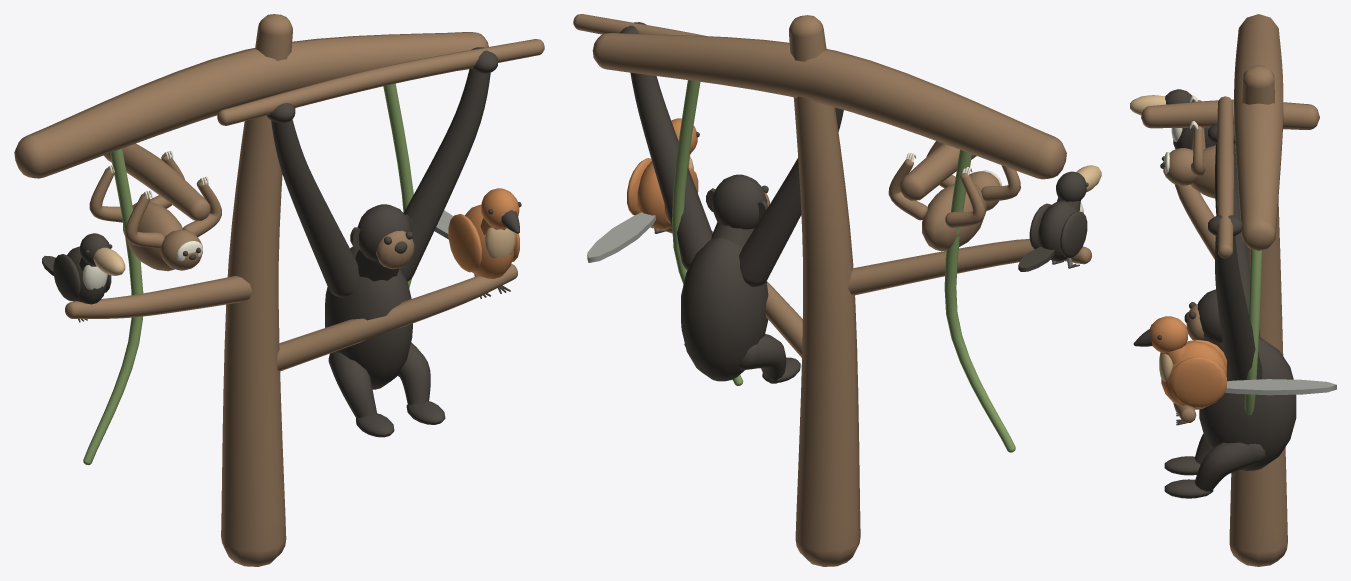
The model's file is rainforest-and-jungle-fauna-canopy-branc-eae5df9f-starter-scene__21700.glb.
3 views of the same model, side by side, from view 1: azimuth 30°, elevation 25°; view 2: azimuth 150°, elevation 25°; view 3: azimuth 270°, elevation 25° (orthographic). The views are drawn at different scales.
Parts seen in each view (by area): view 1: 000-liana-hung-branch-perch/0, 002-gibbon-brachiating/0, 001-three-toed-sloth-on-branch/0, 002-gibbon-brachiating/1, 000-liana-hung-branch-perch/1, 004-scarlet-macaw/0, 003-toco-toucan/0, 004-scarlet-macaw/2, 003-toco-toucan/2; view 2: 000-liana-hung-branch-perch/0, 002-gibbon-brachiating/0, 001-three-toed-sloth-on-branch/0, 000-liana-hung-branch-perch/1, 003-toco-toucan/0, 004-scarlet-macaw/0, 004-scarlet-macaw/1, 002-gibbon-brachiating/1; view 3: 000-liana-hung-branch-perch/0, 002-gibbon-brachiating/0, 001-three-toed-sloth-on-branch/0, 004-scarlet-macaw/0, 002-gibbon-brachiating/1, 004-scarlet-macaw/1, 000-liana-hung-branch-perch/1, 003-toco-toucan/0, 003-toco-toucan/2, 004-scarlet-macaw/2, 004-scarlet-macaw/3.
Part boxes in pixels (x1,y1,x2,y2): 000-liana-hung-branch-perch/0: [14, 14, 517, 566]; 002-gibbon-brachiating/0: [266, 47, 497, 437]; 001-three-toed-sloth-on-branch/0: [89, 143, 221, 271]; 002-gibbon-brachiating/1: [217, 39, 544, 269]; 000-liana-hung-branch-perch/1: [83, 83, 413, 465]; 004-scarlet-macaw/0: [448, 188, 519, 278]; 003-toco-toucan/0: [42, 233, 112, 322]; 004-scarlet-macaw/2: [485, 227, 515, 258]; 003-toco-toucan/2: [93, 247, 125, 275]; 000-liana-hung-branch-perch/0: [592, 15, 1091, 566]; 002-gibbon-brachiating/0: [620, 22, 843, 383]; 001-three-toed-sloth-on-branch/0: [888, 141, 1020, 251]; 000-liana-hung-branch-perch/1: [672, 80, 1015, 452]; 003-toco-toucan/0: [1018, 171, 1088, 271]; 004-scarlet-macaw/0: [627, 118, 698, 229]; 004-scarlet-macaw/1: [587, 212, 655, 262]; 002-gibbon-brachiating/1: [573, 14, 769, 206]; 000-liana-hung-branch-perch/0: [1173, 14, 1287, 566]; 002-gibbon-brachiating/0: [1164, 123, 1296, 498]; 001-three-toed-sloth-on-branch/0: [1141, 99, 1319, 198]; 004-scarlet-macaw/0: [1149, 316, 1226, 409]; 002-gibbon-brachiating/1: [1186, 96, 1233, 340]; 004-scarlet-macaw/1: [1225, 379, 1336, 395]; 000-liana-hung-branch-perch/1: [1240, 249, 1262, 470]; 003-toco-toucan/0: [1165, 89, 1215, 149]; 003-toco-toucan/2: [1130, 95, 1166, 115]; 004-scarlet-macaw/2: [1159, 352, 1172, 381]; 004-scarlet-macaw/3: [1133, 329, 1192, 425].
Bounding box in the file's own units: 2.29 × 2.34 × 0.865.
